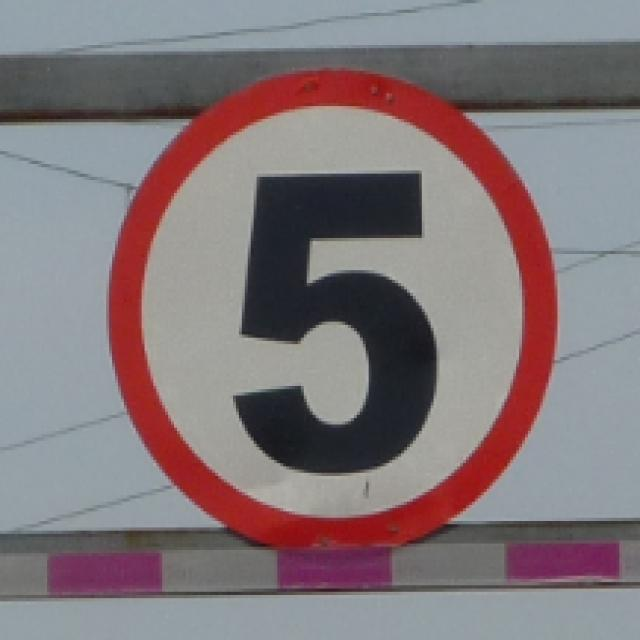speed limit 10: (106, 64, 561, 552)
